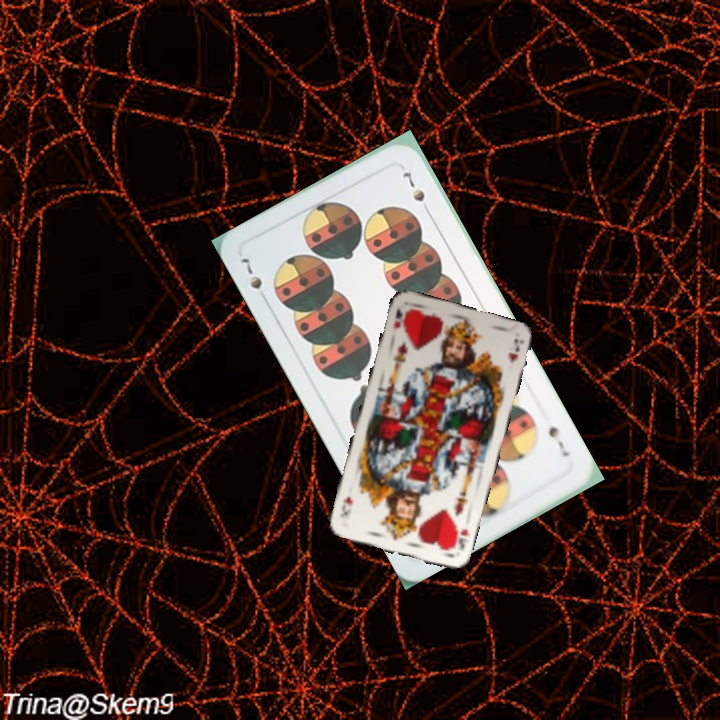HK: (447, 525, 472, 554), (389, 304, 405, 334)
S7: (236, 253, 265, 293), (544, 422, 572, 460)
